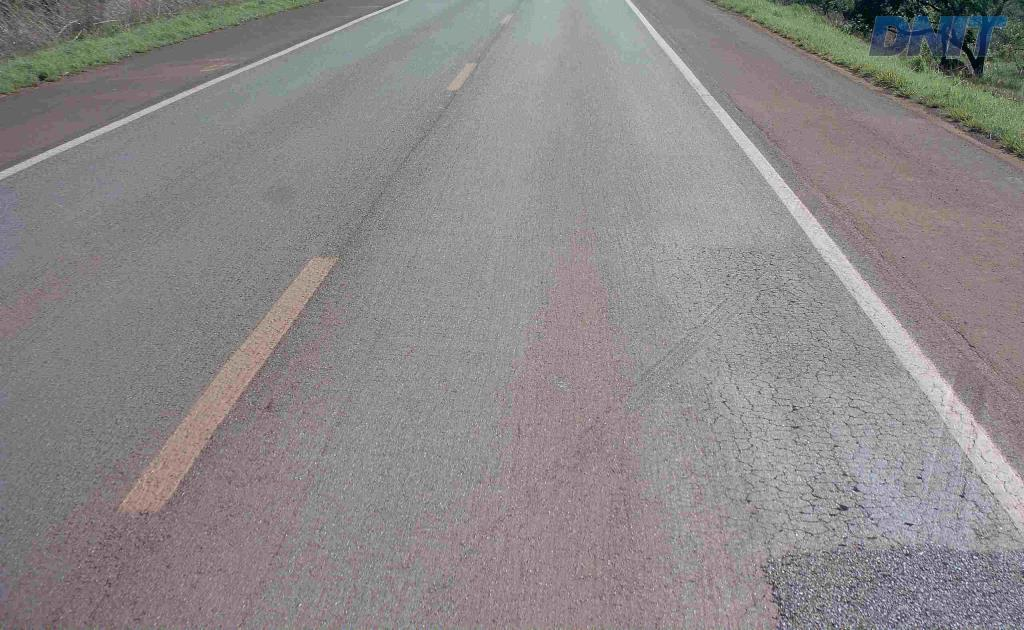crack: (829, 494, 880, 538)
